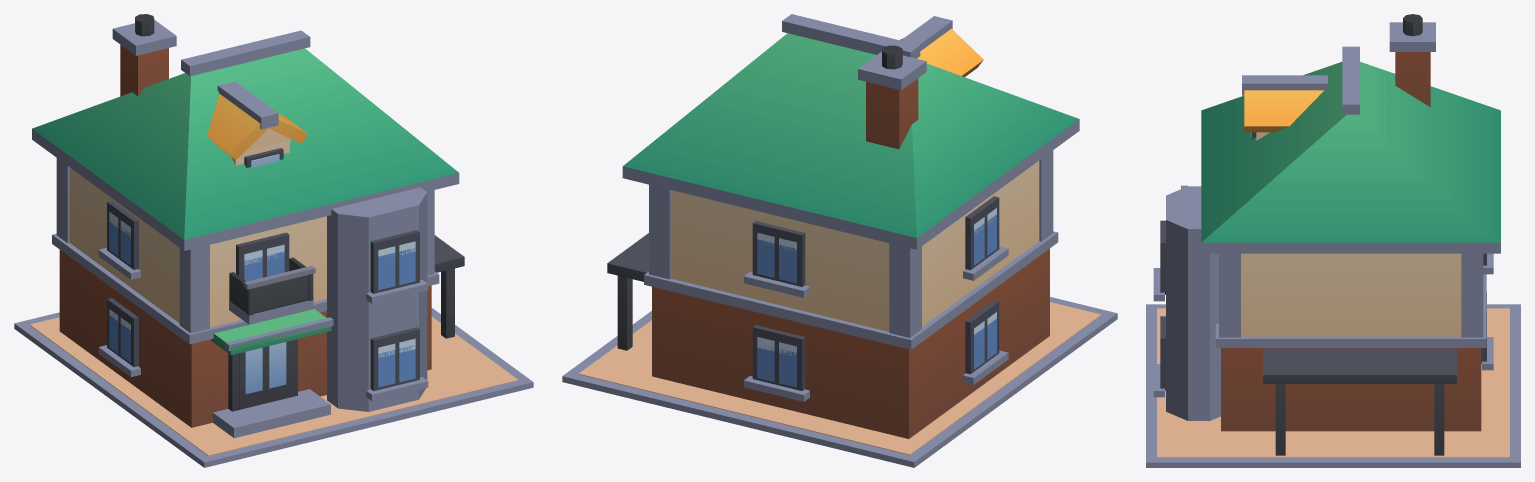
File: res_brick_villa_1x1.glb
3 views of the same model, side by side, from view 1: azimuth 30°, elevation 25°; view 2: azimuth 150°, elevation 25°; view 3: azimuth 270°, elevation 25° (orthographic). The views are drawn at different scales.
Visible parts, largest first — view 1: res_brick_villa_1x1; view 2: res_brick_villa_1x1; view 3: res_brick_villa_1x1.
Part boxes in pixels (bbox=[...]): res_brick_villa_1x1: bbox=[14, 14, 533, 467]; res_brick_villa_1x1: bbox=[562, 14, 1117, 467]; res_brick_villa_1x1: bbox=[1146, 14, 1520, 467].
Bounding box in the file's own units: 1.7 × 1.64 × 1.7.
1 material, 1 textured.
